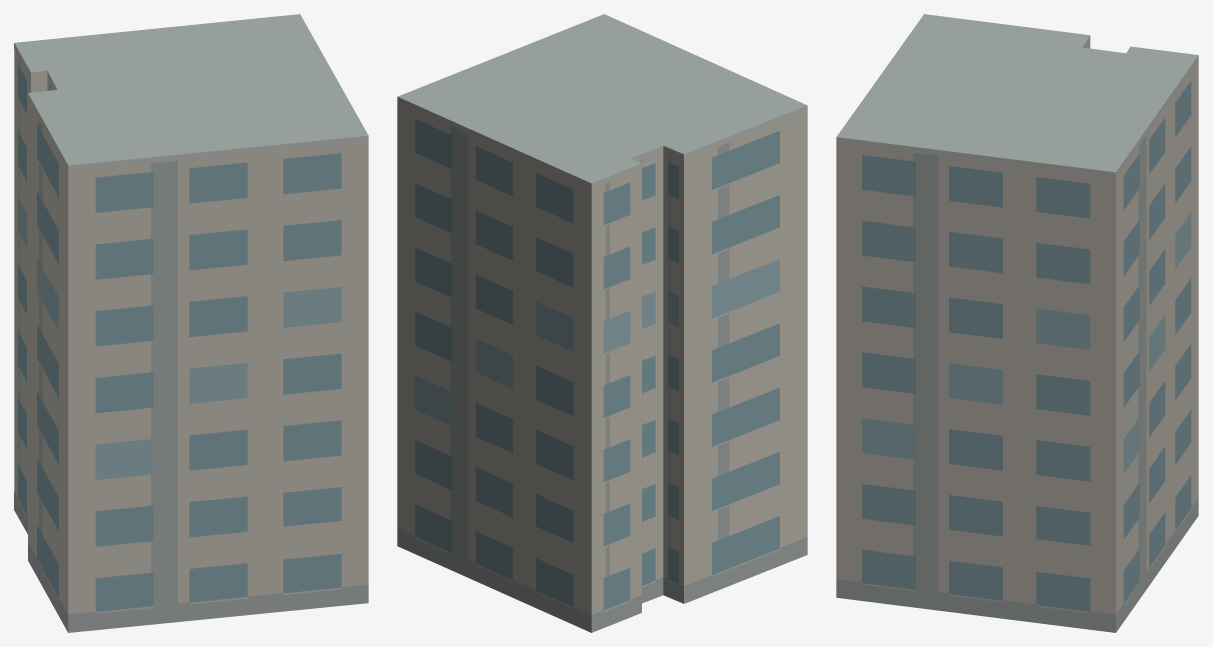
The model's file is survey-upis-32871953.glb.
3 renders of one model, left to right at view 1: azimuth 30°, elevation 25°; view 2: azimuth 150°, elevation 25°; view 3: azimuth 270°, elevation 25°, orthographic. The views are drawn at different scales.
Parts seen in each view (by area): view 1: survey-upis-32871953.tmp; view 2: survey-upis-32871953.tmp; view 3: survey-upis-32871953.tmp.
Part boxes in pixels (<box>): survey-upis-32871953.tmp: <box>14,14,368,632</box>; survey-upis-32871953.tmp: <box>397,14,807,632</box>; survey-upis-32871953.tmp: <box>836,14,1198,632</box>.
Bounding box in the file's own units: 13.87 × 18.8 × 13.41.
